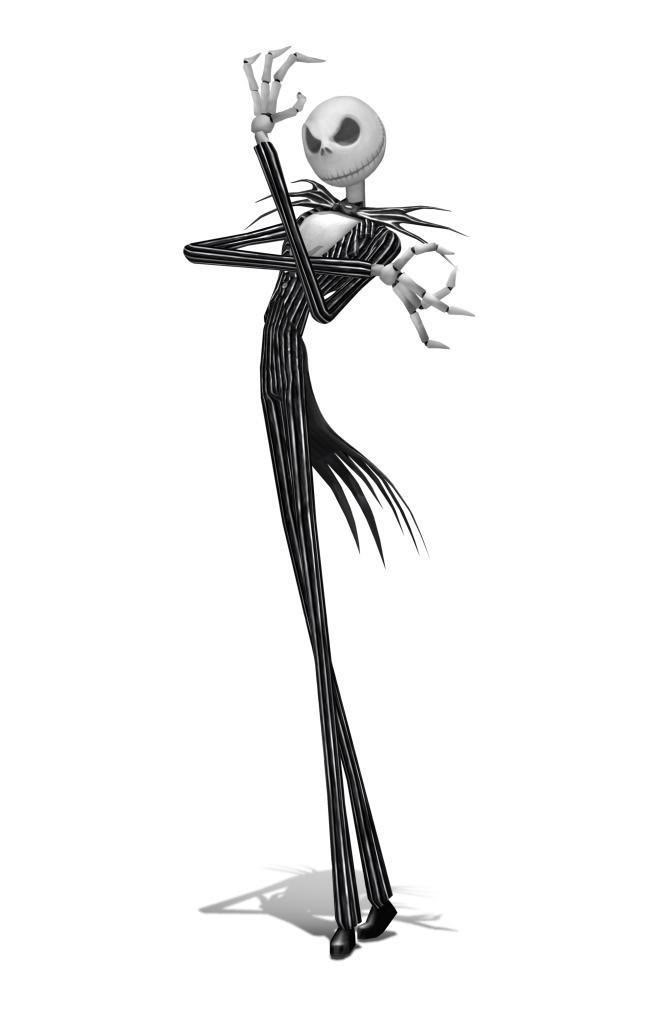Jack Skellington: (181, 46, 478, 963)
